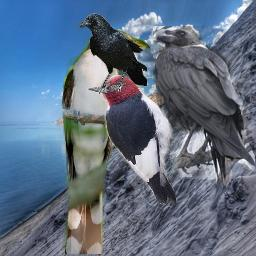Crow: (153, 26, 255, 187), (77, 13, 147, 94)
Cuckoo: (60, 28, 151, 254)
Woodpecker: (87, 75, 176, 205)
